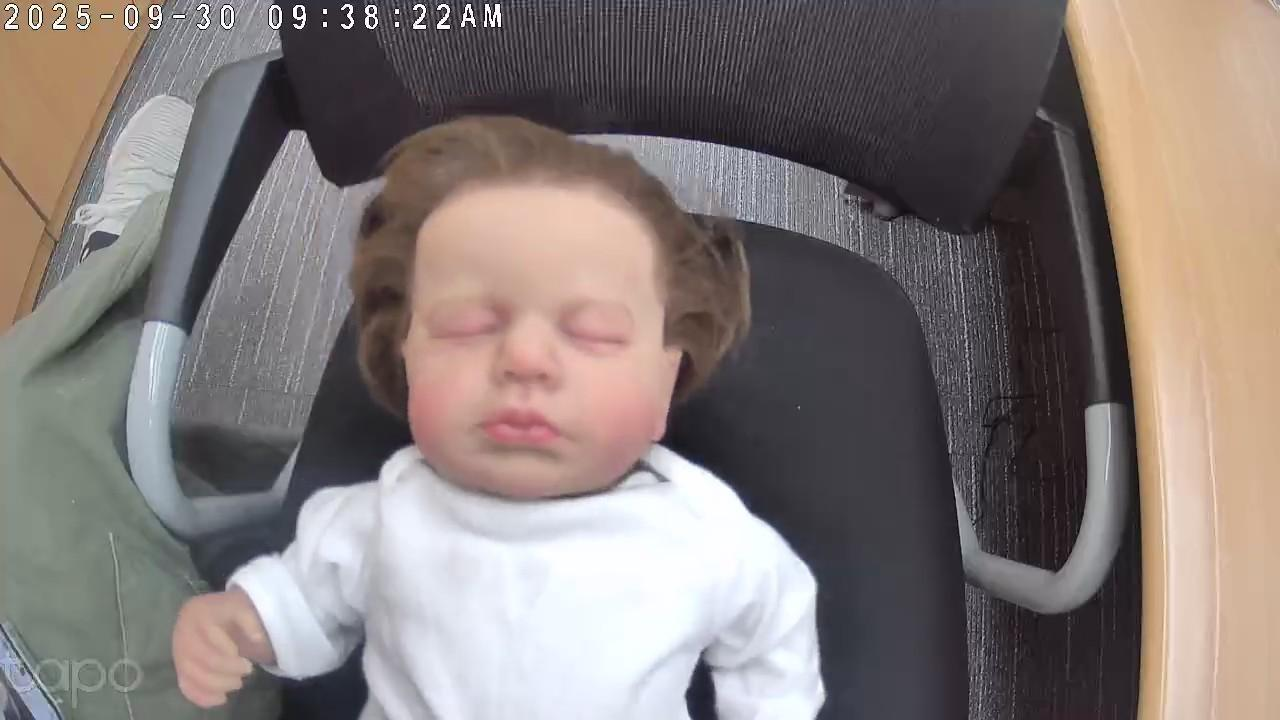hand: (172, 588, 276, 710)
